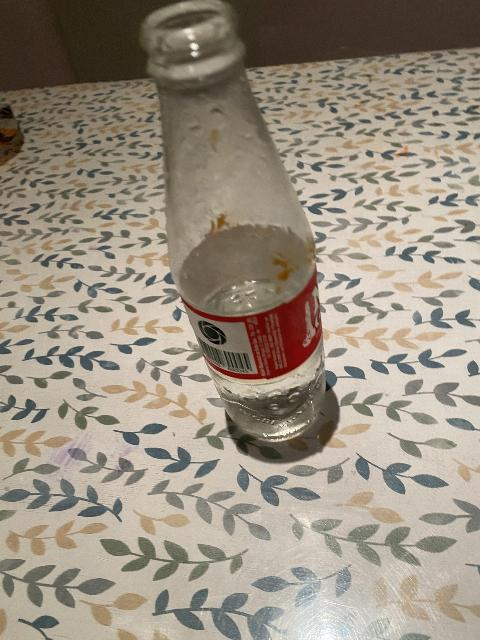Cam: (140, 2, 330, 447)
Plastik: (190, 293, 322, 375)
